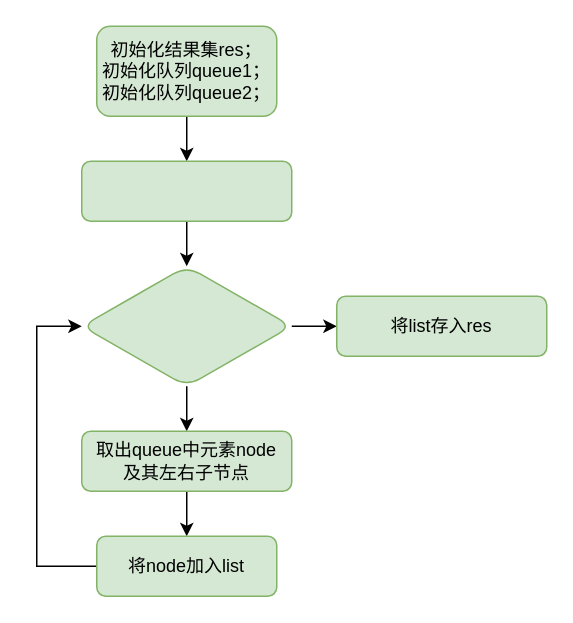
This 573x623 diagram has some shape labels left out. Here are the shapes that lost their labels. From the top down, the centre of each, then its label:
At point 186,190: "将root放入到queue1中".
At point 186,325: "queue是否为空？".
